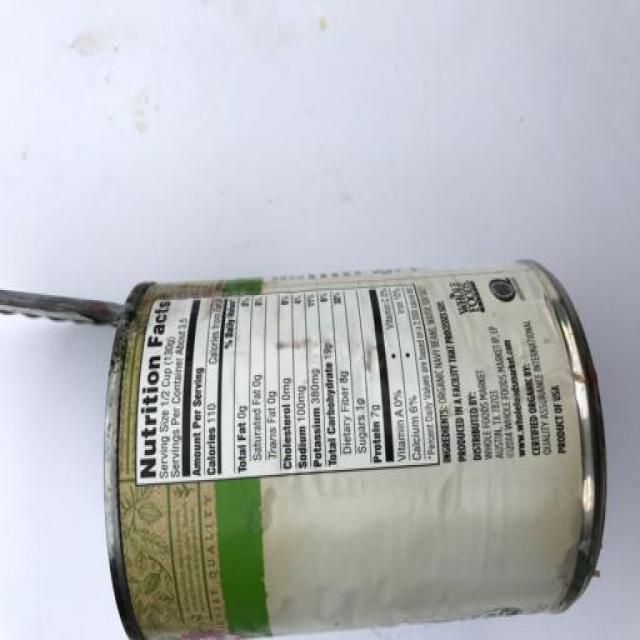metel: (2, 206, 640, 640)
